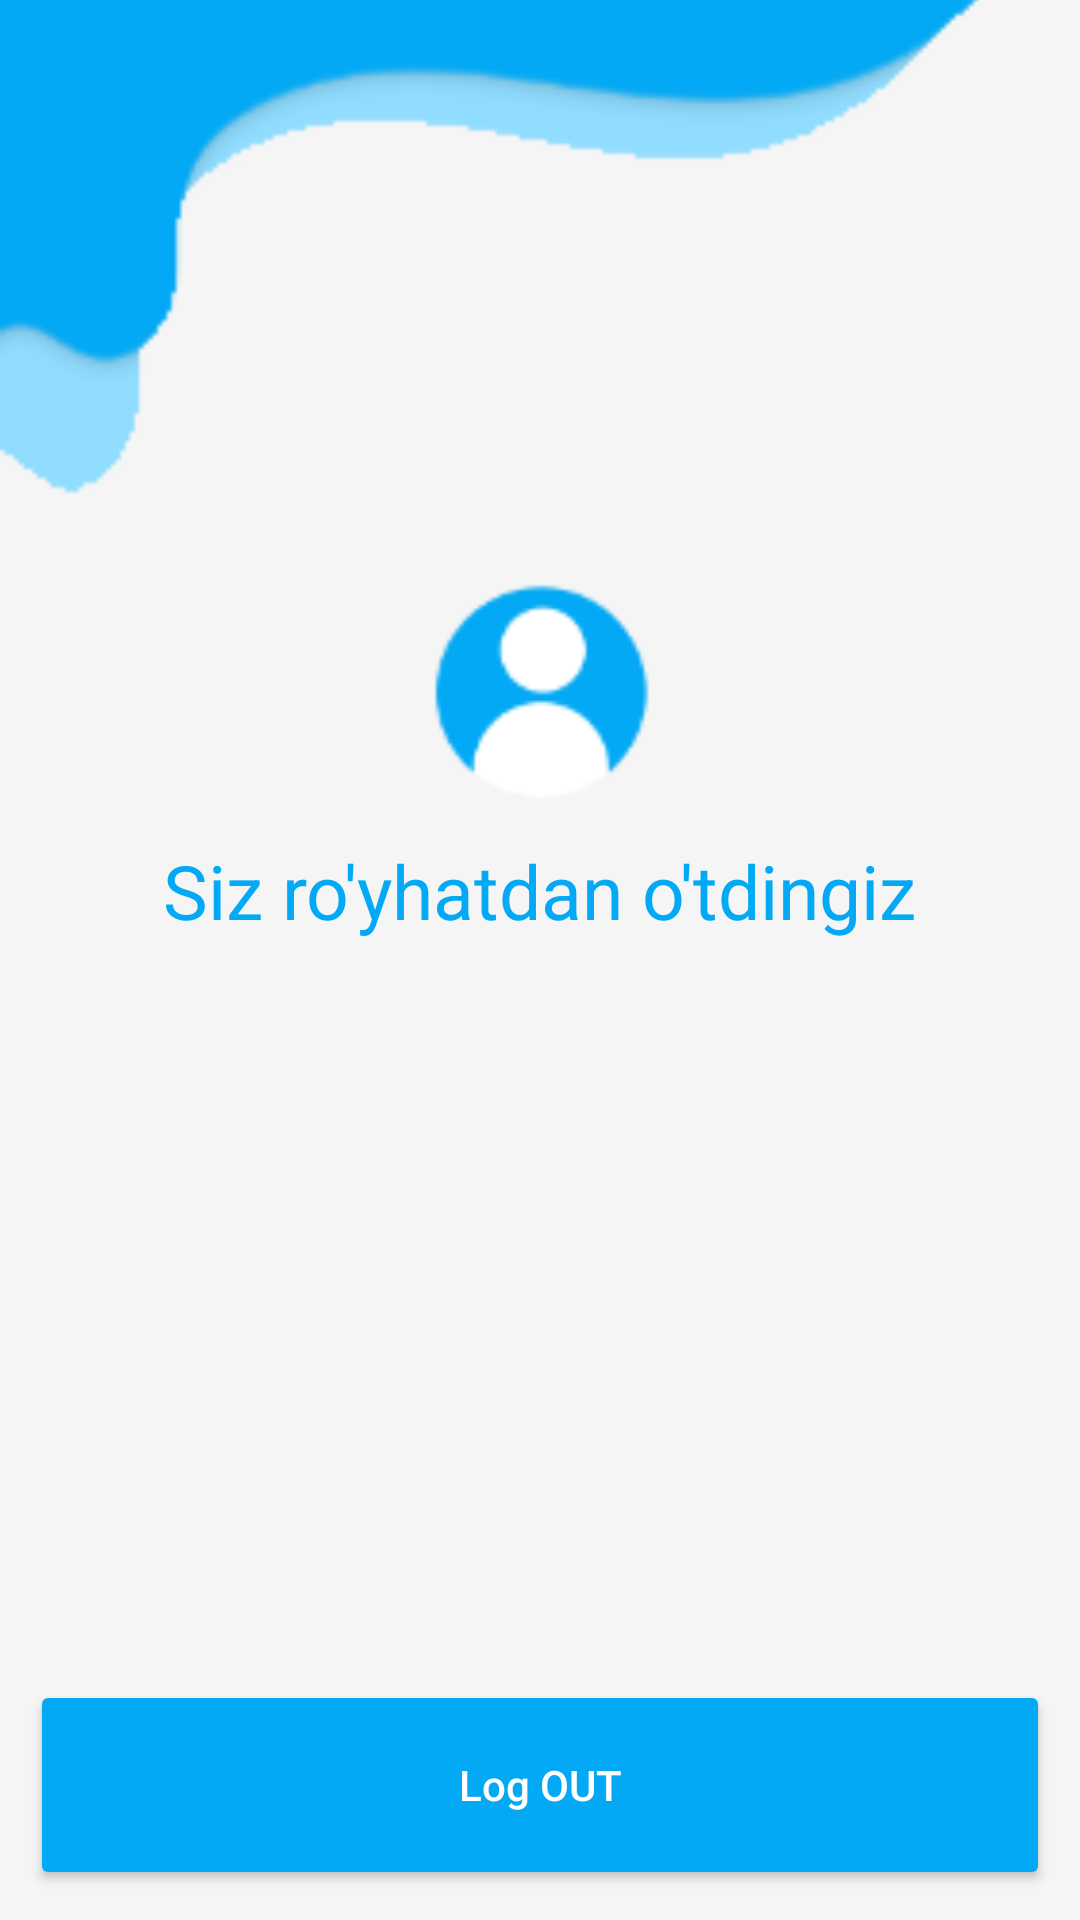

Where to tap for icons on this 1080*1920 app screen, as [x,y]:
user: [542,679]
